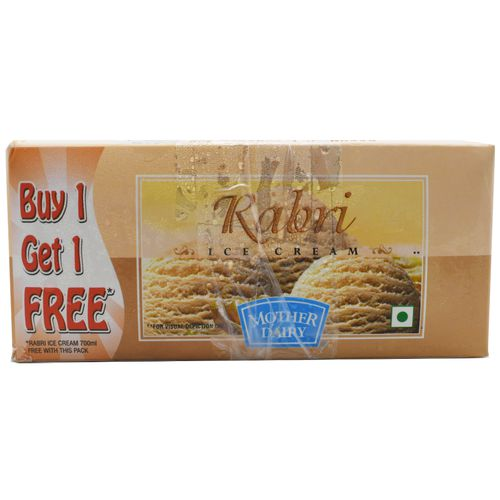Mother_Dairy: (227, 296, 333, 354)
